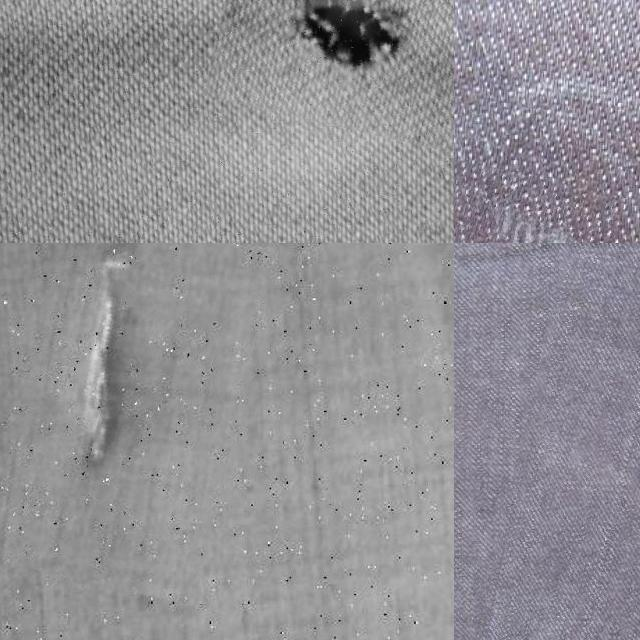other: (3, 243, 259, 596), (211, 0, 454, 141)
stains: (482, 243, 640, 640), (454, 169, 620, 243)
